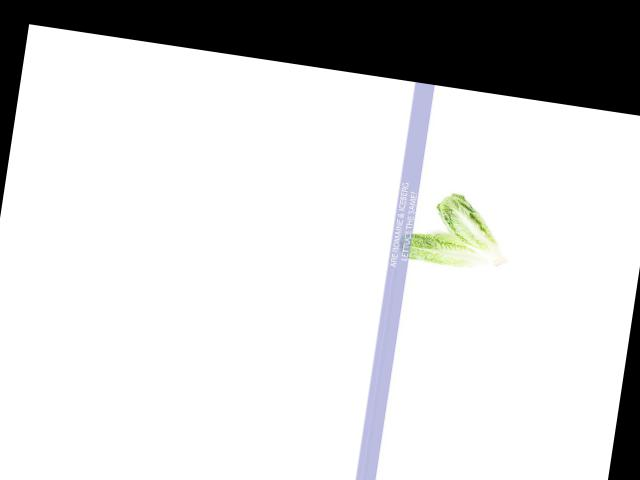lettuce: (424, 193, 525, 268)
